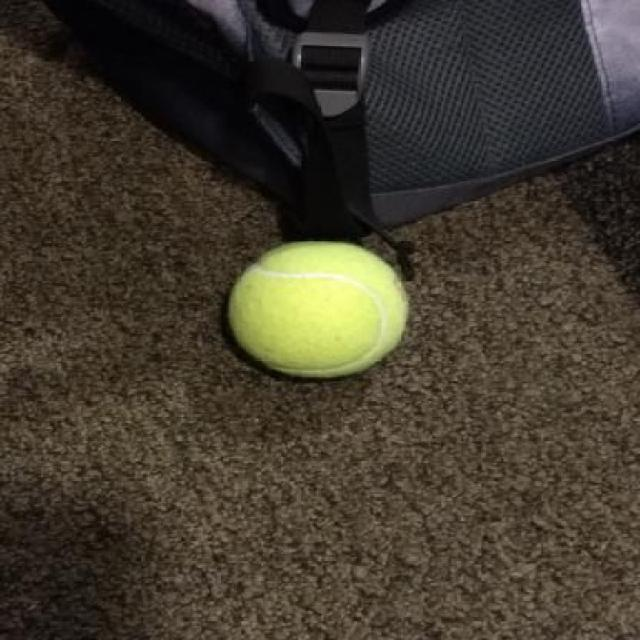tennis-ball: (232, 242, 409, 382)
